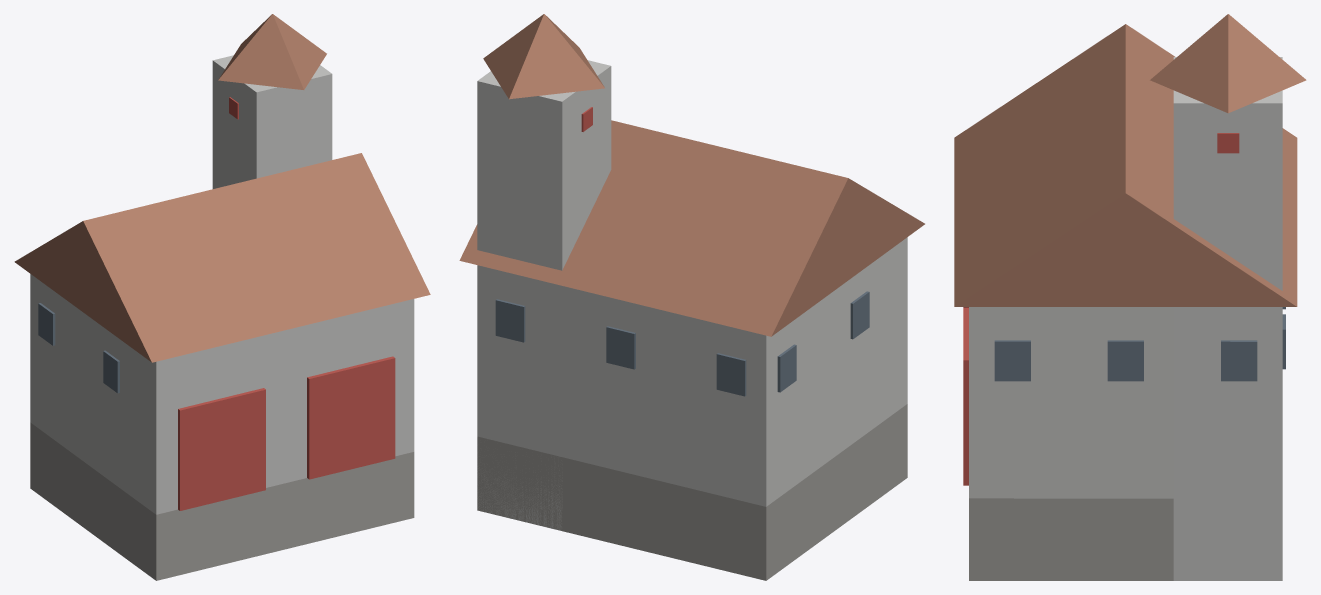
The model's file is landmark-fire_station-30483984.glb.
3 views of the same model, side by side, from view 1: azimuth 30°, elevation 25°; view 2: azimuth 150°, elevation 25°; view 3: azimuth 270°, elevation 25° (orthographic). The views are drawn at different scales.
Parts seen in each view (by area): view 1: building; view 2: building; view 3: building.
Boxes of the visible parts, x1,y1,x2,y2 form: building: (14, 14, 430, 580); building: (459, 14, 924, 580); building: (954, 14, 1306, 580).
Bounding box in the file's own units: 11.28 × 16.5 × 9.7.
